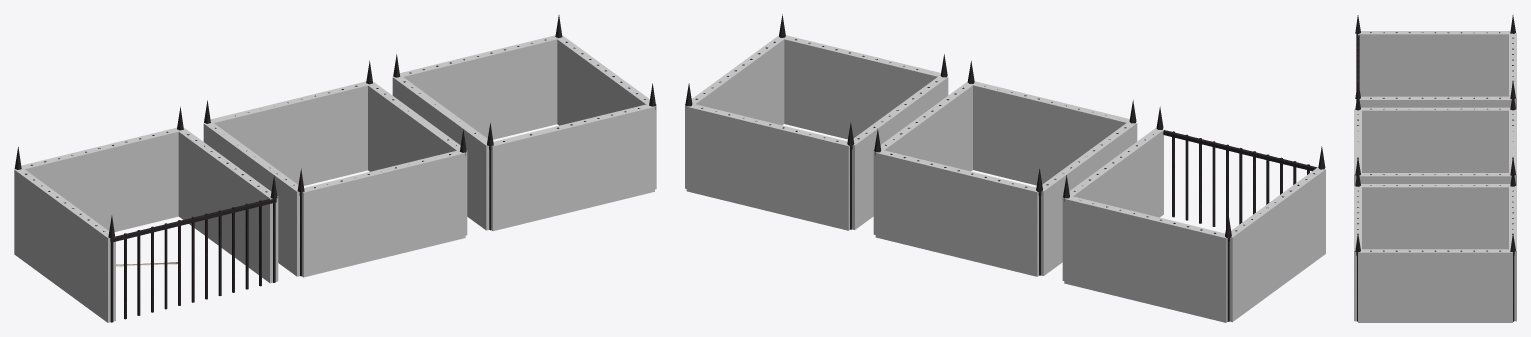
Rendered from iron_pens.glb.
3 views of the same model, side by side, from view 1: azimuth 30°, elevation 25°; view 2: azimuth 150°, elevation 25°; view 3: azimuth 270°, elevation 25° (orthographic). The views are drawn at different scales.
Parts seen in each view (by area): view 1: Bars-convcolonly.008, Bars-convcolonly.004, Bars-convcolonly.010, Bars-convcolonly.002, Bars-convcolonly.006, Bars-convcolonly.003, Bars-convcolonly.001, Bars, Bars-convcolonly.005, Bars-convcolonly.009, Bars-convcolonly.011, Bars-convcolonly.007; view 2: Bars-convcolonly.010, Bars-convcolonly.002, Bars-convcolonly.006, Bars-convcolonly.008, Bars-convcolonly.004, Bars-convcolonly.003, Bars, Bars-convcolonly.001, Bars-convcolonly.005, Bars-convcolonly.009, Bars-convcolonly.007, Bars-convcolonly.011; view 3: Bars-convcolonly.009, Bars-convcolonly.003, Bars-convcolonly.011, Bars-convcolonly.007, Bars-convcolonly.001, Bars-convcolonly.005, Bars, Bars-convcolonly.008, Bars-convcolonly.010, Bars-convcolonly.004, Bars-convcolonly.006, Bars-convcolonly.002.
Boxes of the visible parts, box(x1,y1,x2,y2) form: Bars-convcolonly.008: box(491, 104, 654, 231); Bars-convcolonly.004: box(302, 150, 465, 277); Bars-convcolonly.010: box(399, 35, 560, 139); Bars-convcolonly.002: box(20, 127, 178, 231); Bars-convcolonly.006: box(209, 81, 370, 185); Bars-convcolonly.003: box(14, 168, 115, 322); Bars-convcolonly.001: box(177, 128, 278, 283); Bars: box(14, 15, 655, 322); Bars-convcolonly.005: box(366, 82, 467, 235); Bars-convcolonly.009: box(557, 35, 656, 189); Bars-convcolonly.011: box(392, 75, 489, 230); Bars-convcolonly.007: box(203, 123, 299, 276); Bars-convcolonly.010: box(686, 104, 849, 230); Bars-convcolonly.002: box(1064, 196, 1227, 322); Bars-convcolonly.006: box(875, 150, 1038, 276); Bars-convcolonly.008: box(780, 35, 941, 139); Bars-convcolonly.004: box(969, 81, 1130, 185); Bars-convcolonly.003: box(1229, 167, 1325, 322); Bars: box(685, 14, 1325, 321); Bars-convcolonly.001: box(1062, 128, 1163, 280); Bars-convcolonly.005: box(873, 81, 972, 234); Bars-convcolonly.009: box(685, 35, 785, 188); Bars-convcolonly.007: box(1041, 123, 1137, 275); Bars-convcolonly.011: box(852, 77, 948, 229); Bars-convcolonly.009: box(1358, 249, 1512, 322); Bars-convcolonly.003: box(1358, 31, 1511, 96); Bars-convcolonly.011: box(1358, 184, 1512, 249); Bars-convcolonly.007: box(1358, 107, 1512, 172); Bars-convcolonly.001: box(1359, 96, 1511, 107); Bars-convcolonly.005: box(1359, 173, 1511, 183); Bars: box(1355, 15, 1515, 321); Bars-convcolonly.008: box(1354, 185, 1361, 321); Bars-convcolonly.010: box(1509, 185, 1516, 321); Bars-convcolonly.004: box(1354, 109, 1361, 185); Bars-convcolonly.006: box(1509, 109, 1516, 185); Bars-convcolonly.002: box(1509, 32, 1516, 109).
Size of what is drawn, in the model's own units: 20.3 by 3.8 by 6.3.
Materials: 2 (2 with a texture image).
